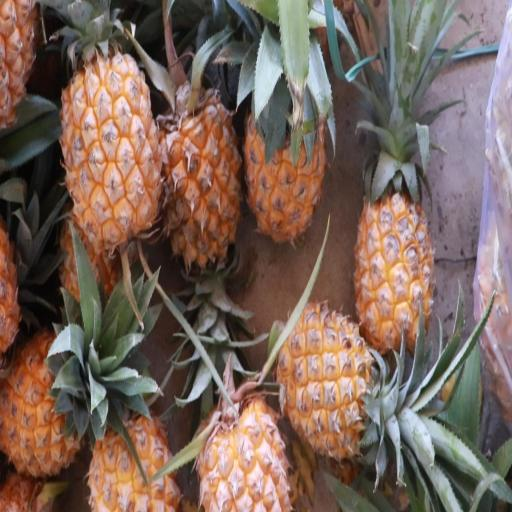Pineapple - v8 v1: (55, 27, 167, 260), (352, 116, 438, 358), (151, 66, 246, 269), (270, 310, 383, 474), (243, 46, 330, 250), (2, 315, 92, 484), (187, 388, 296, 512), (87, 407, 183, 512)
